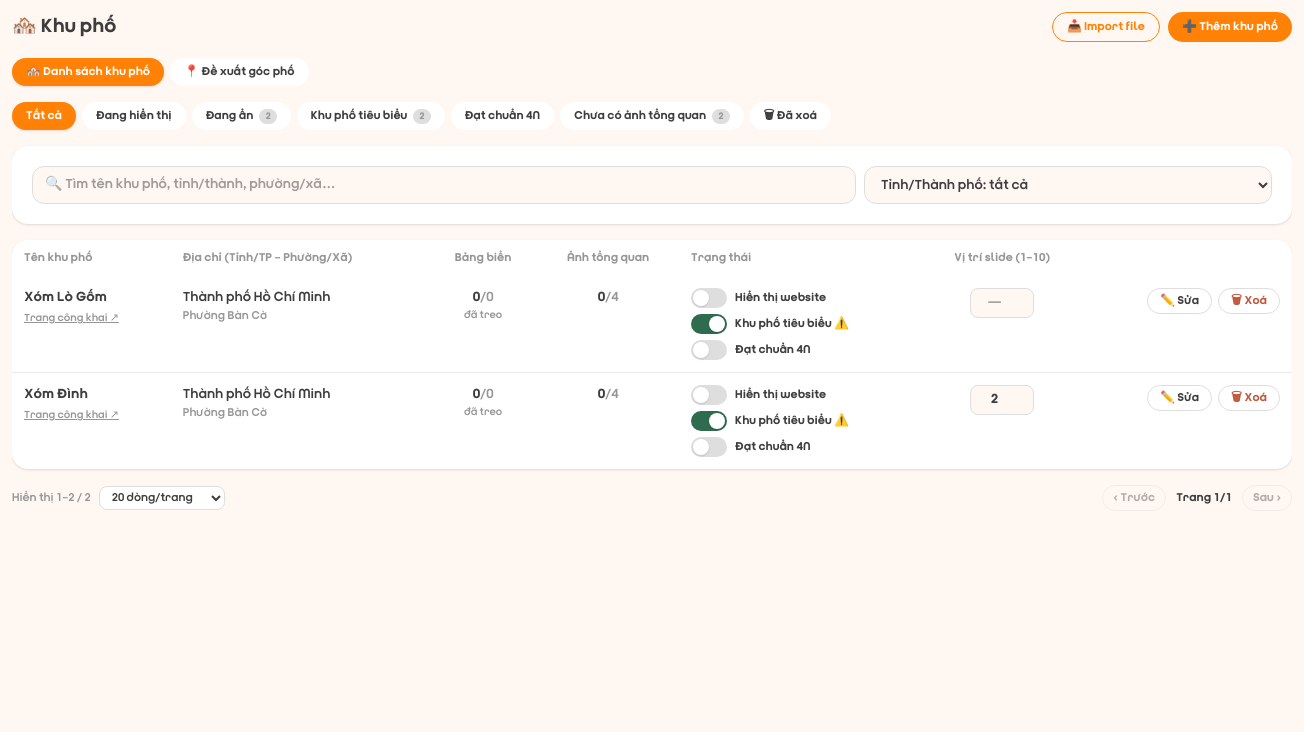
/admin/khu-pho — vị trí slide 1..10 › thông báo xếp slot — slot còn trống
Expected: the text "Xóm Lò Gốm" is shown, [24,290,107,305]
Type "8" into the number field with placeholder "—" at (1002, 303), box [970,288,1034,318]
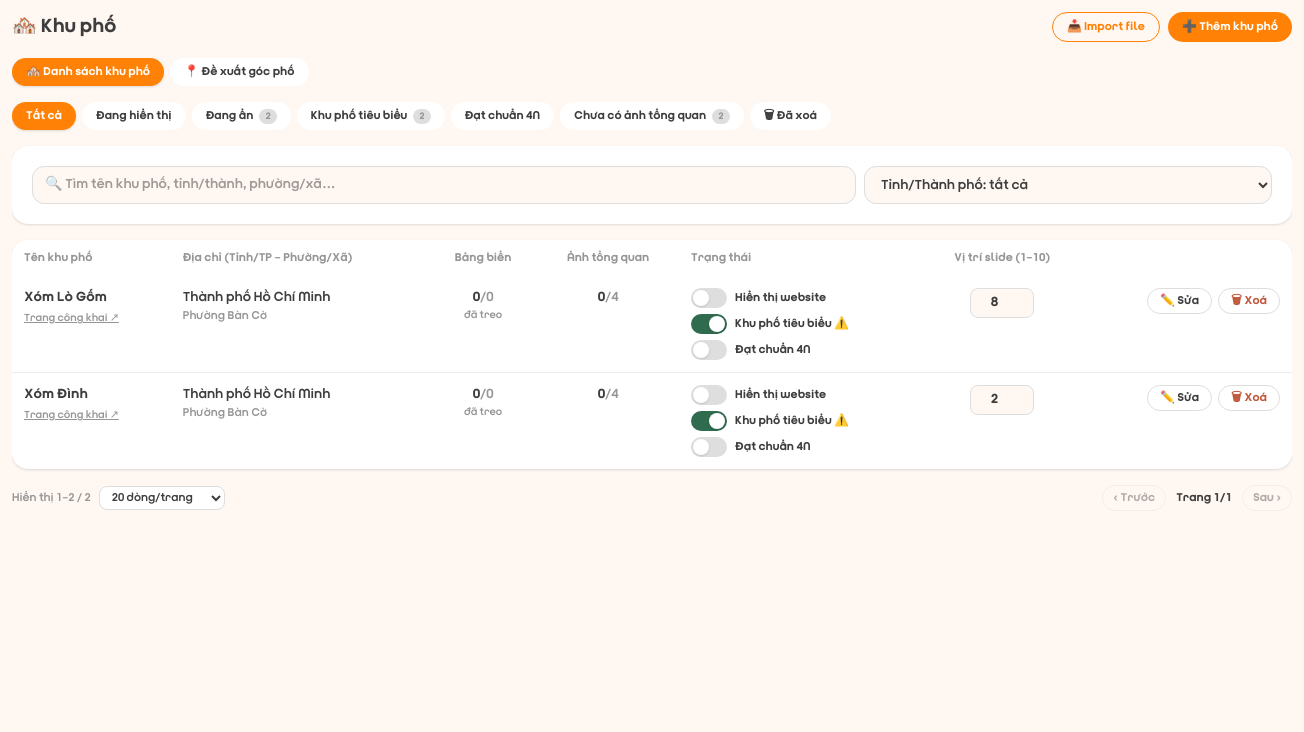
Leave the number field in the row of "Xóm Lò Gốm", box [970,288,1034,318]
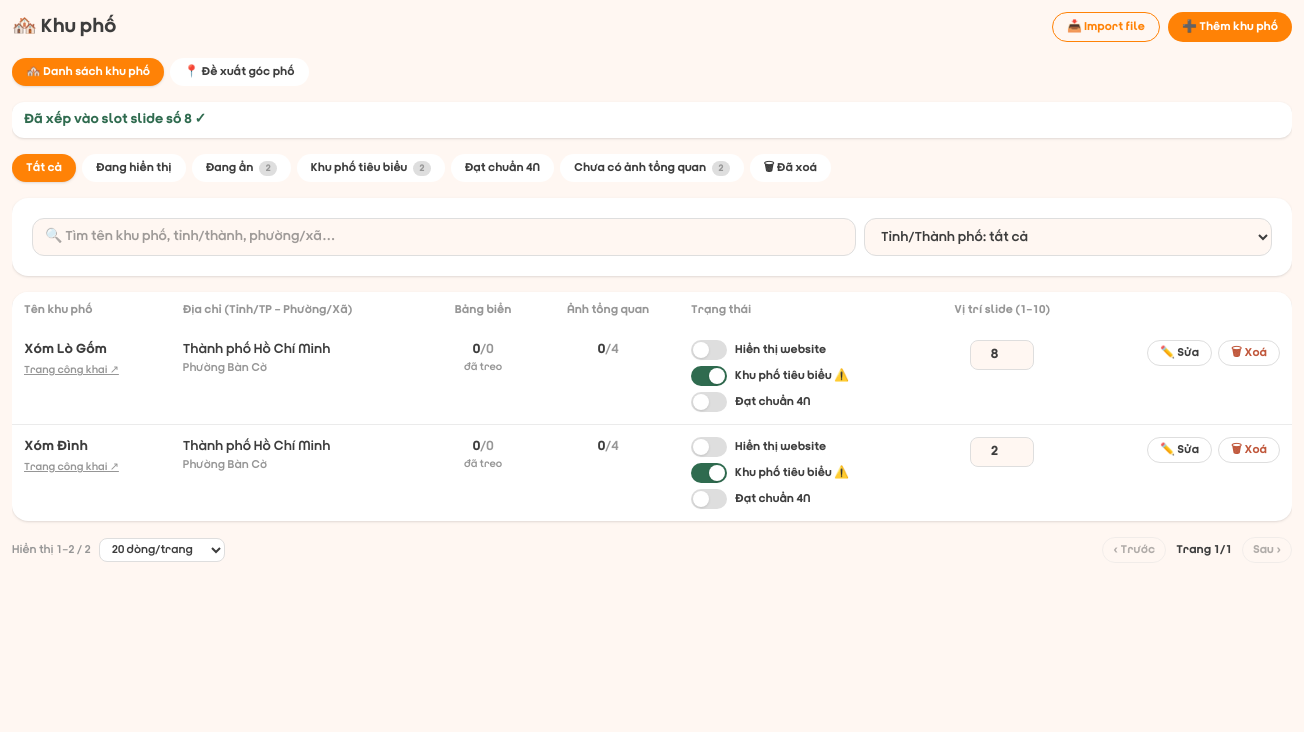
Now the text "Đã xếp vào slot slide số 8 ✓" is shown, box [12,102,1292,138]
